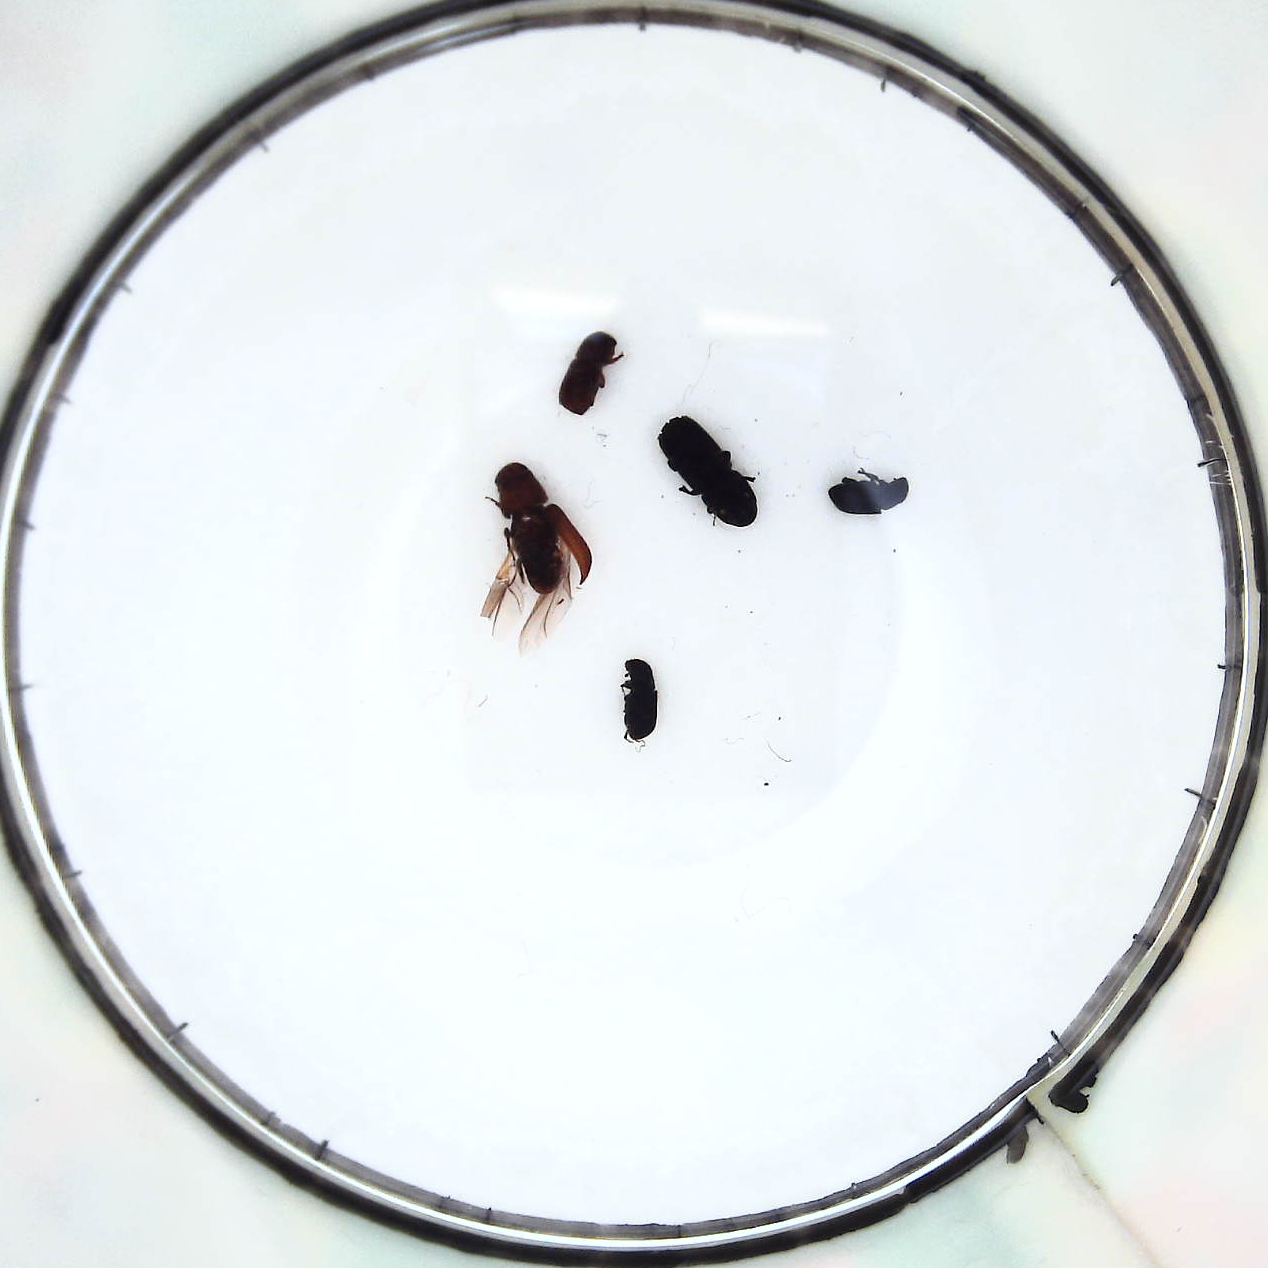Boerner: (660, 419, 752, 531)
Leconte: (489, 458, 591, 628)
Linnaeus: (555, 336, 624, 415)
armandi: (828, 464, 908, 521), (620, 655, 664, 745)
